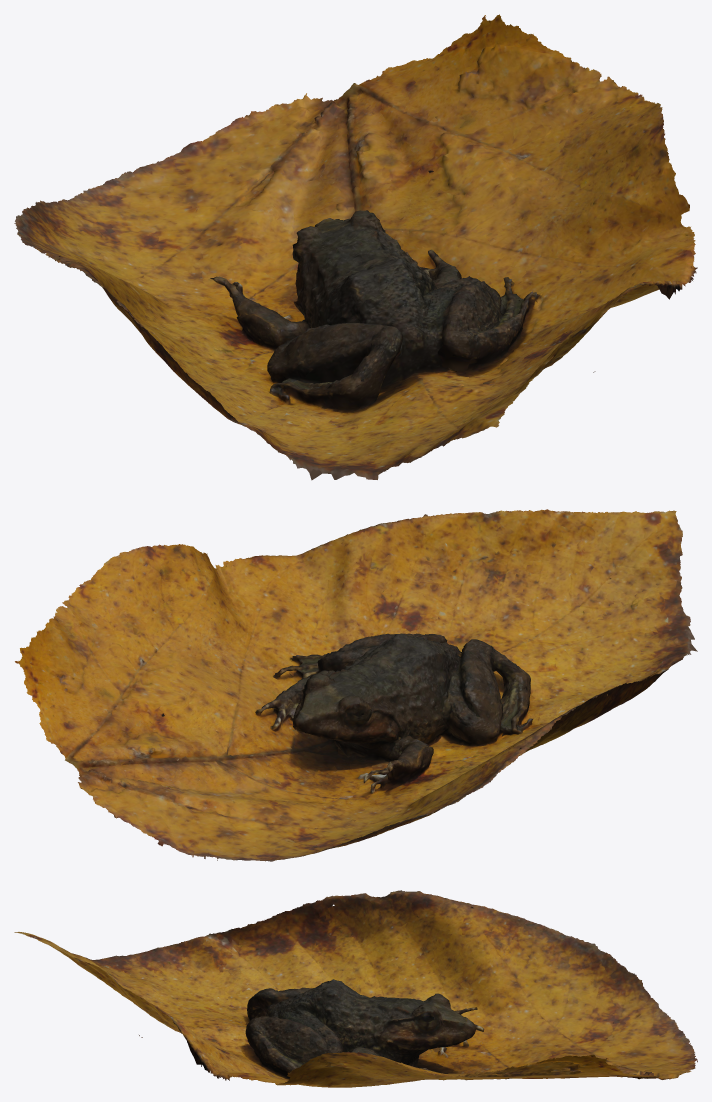
File: FangedFrog.fbx
3 renders of one model, top to bottom at view 1: azimuth 30°, elevation 25°; view 2: azimuth 150°, elevation 25°; view 3: azimuth 270°, elevation 25°, orthographic. The views are drawn at different scales.
Parts seen in each view (by area): view 1: Crab eating frog reduced; view 2: Crab eating frog reduced; view 3: Crab eating frog reduced.
Part boxes in pixels (x1=…): Crab eating frog reduced: x1=14, y1=14, x2=697, y2=480; Crab eating frog reduced: x1=15, y1=509, x2=697, y2=861; Crab eating frog reduced: x1=14, y1=890, x2=697, y2=1087.
Bounding box in the file's own units: 1947 × 526 × 2734.
1 material, 1 textured.
